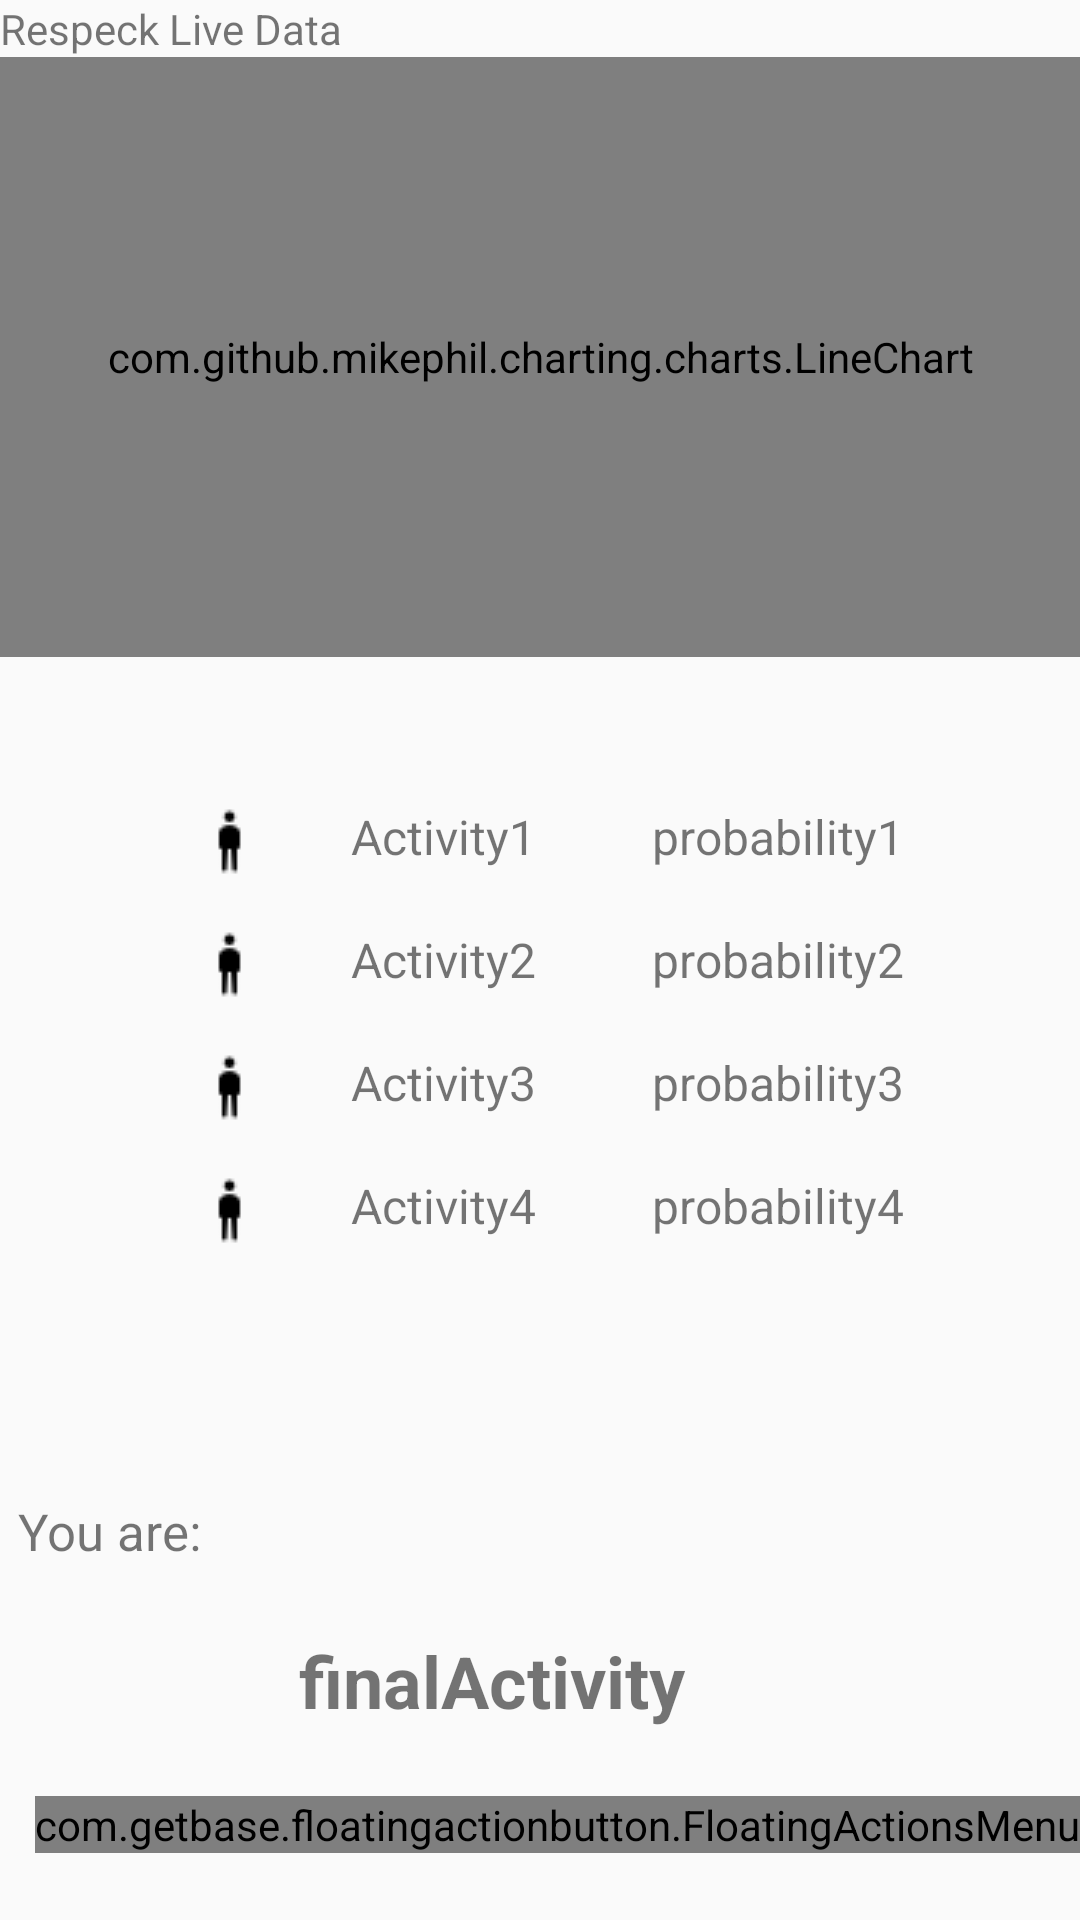

Icon bounding boxes for this 1080w x 1920h phone screenshot, format (x1,y1,x2,y2):
standing: (218,809,241,874), (218,932,241,997), (218,1055,241,1120), (218,1178,241,1243)
